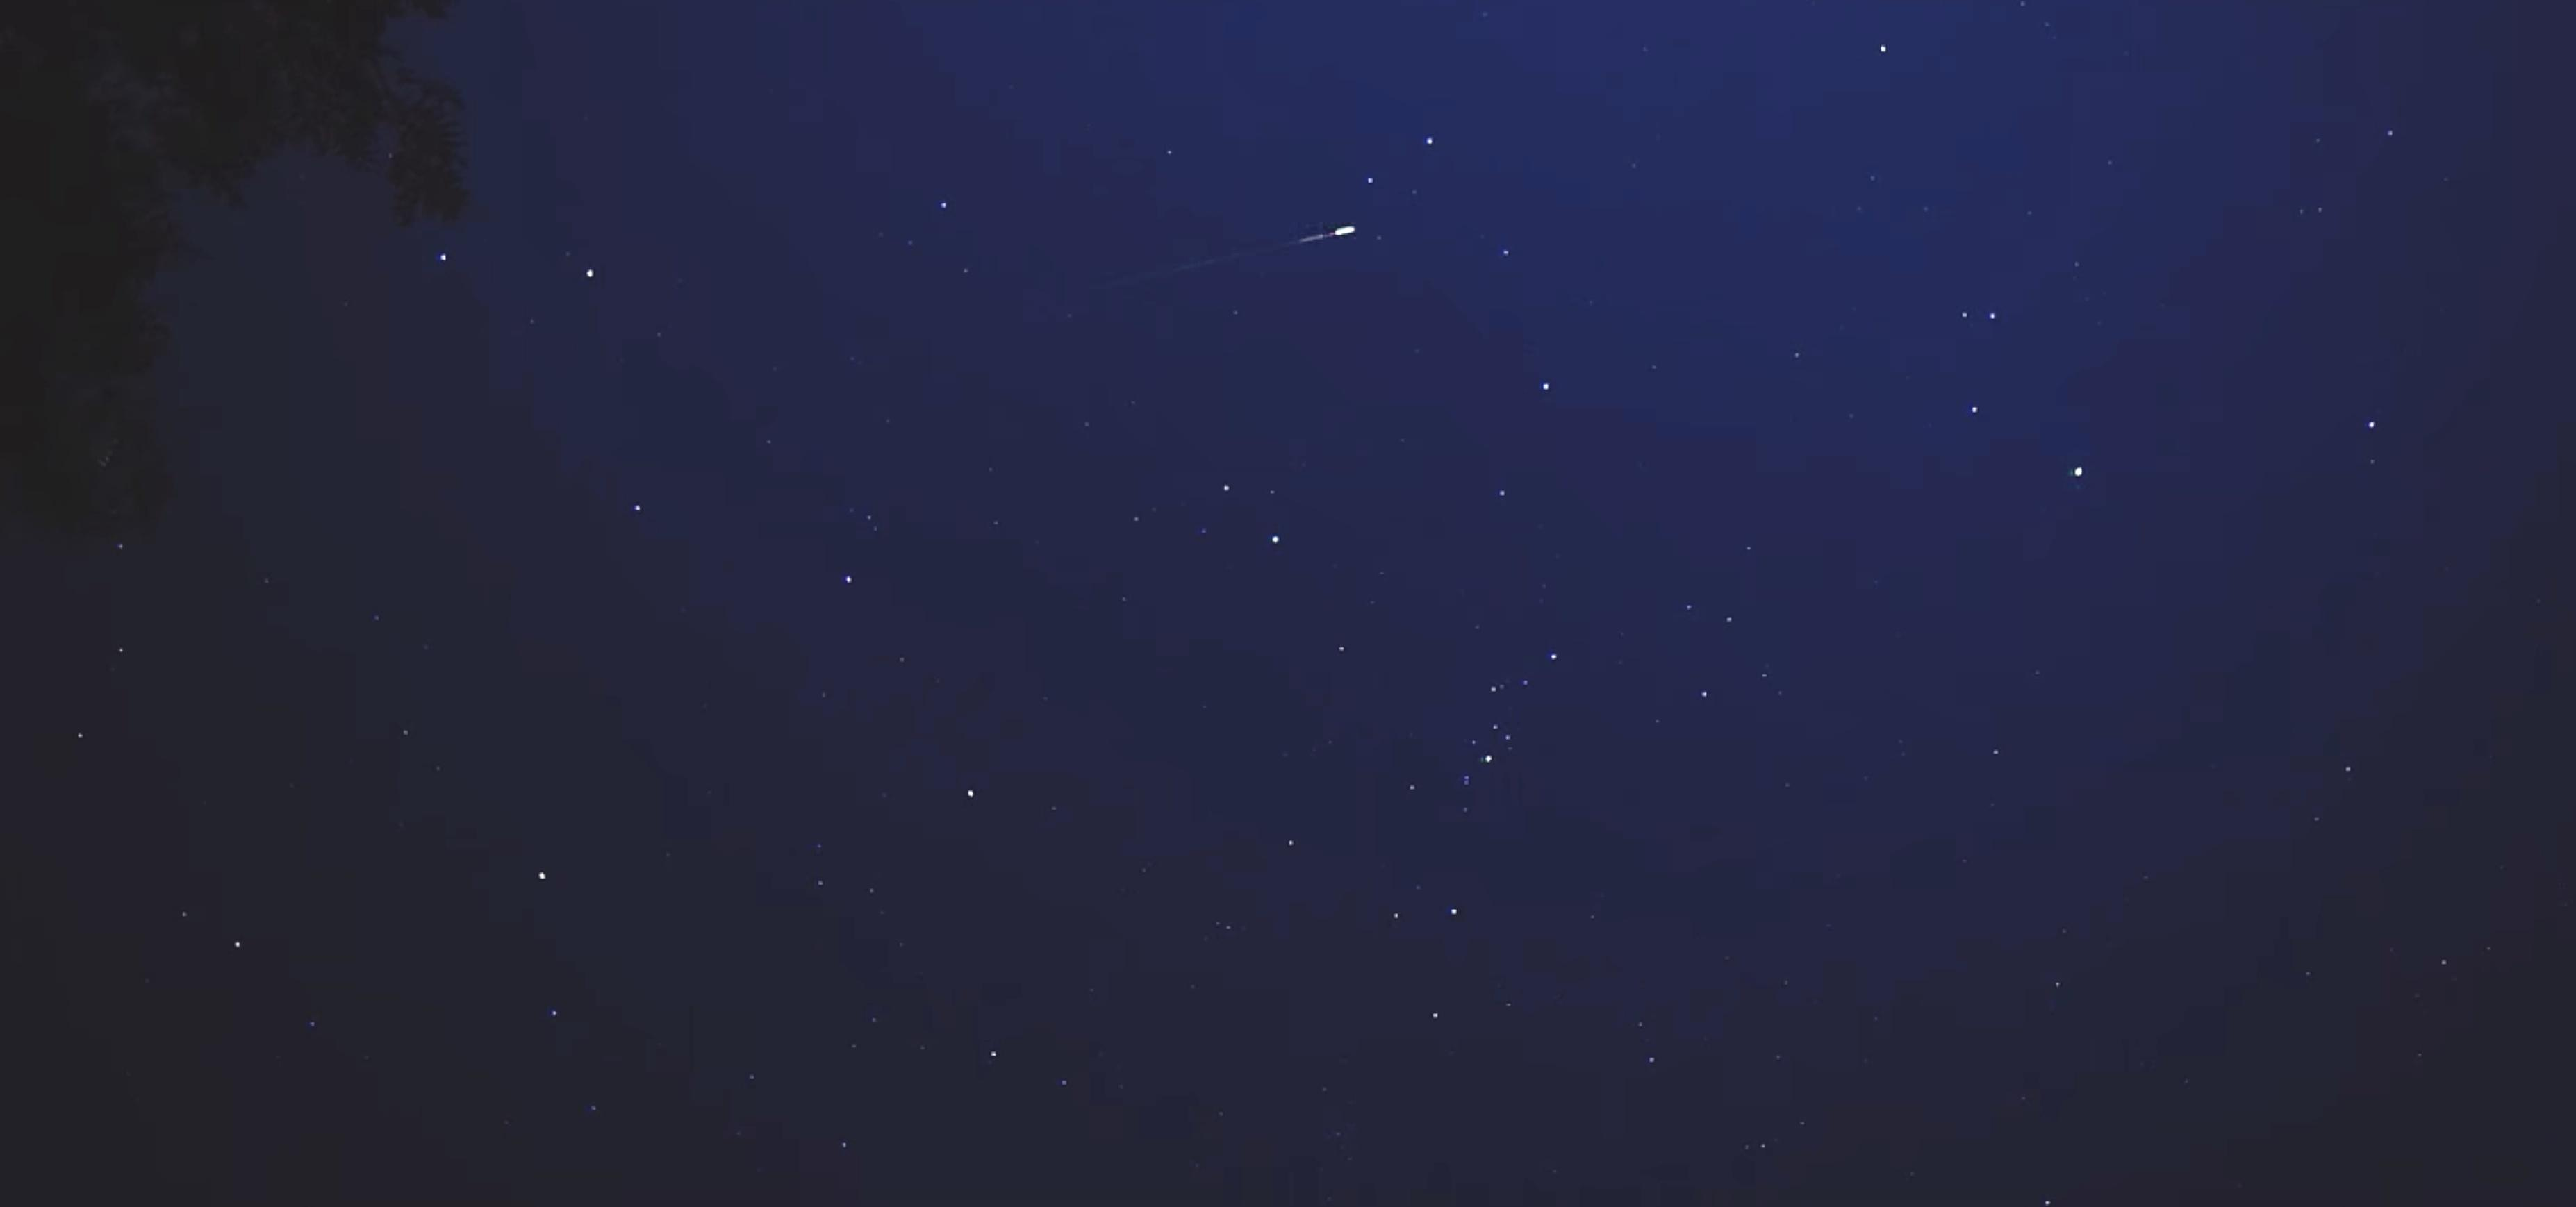meteorite: (1112, 207, 1406, 284)
